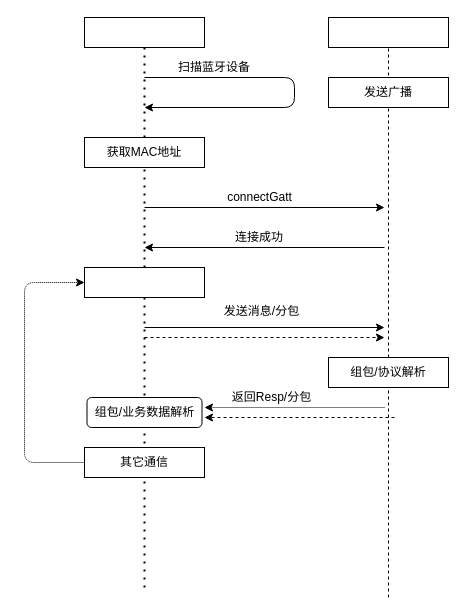
The diagram is 466 pixels wide and 616 high, and some of its shapes have lost their labels. Here are the shapes that lost their labels. From the top down, the centre of each, then its label:
At (144,32): "BLE Client".
At (388,32): "BLE Server".
At (144,282): "业务通信".
